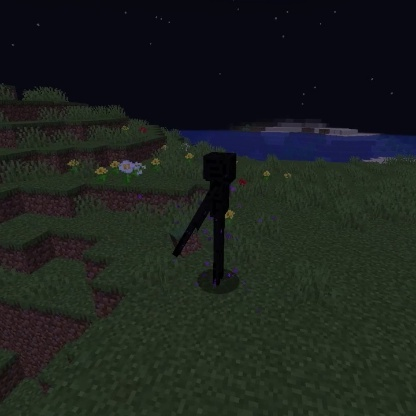enderman: (170, 150, 239, 289)
